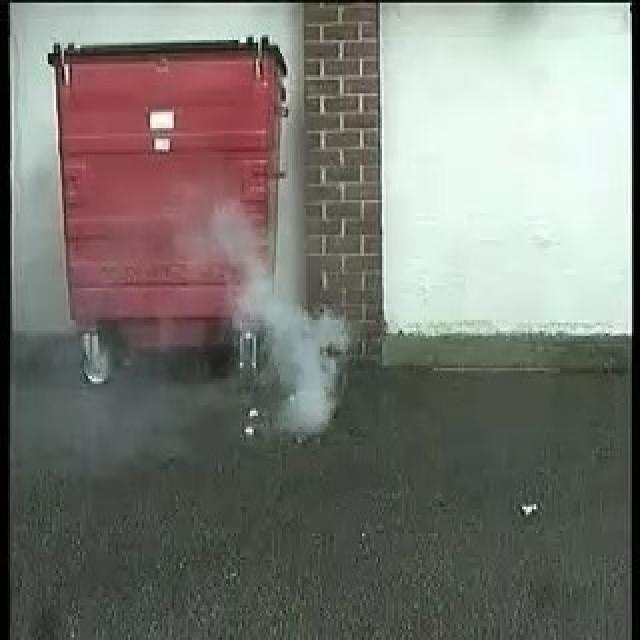smoke: (222, 217, 340, 436)
